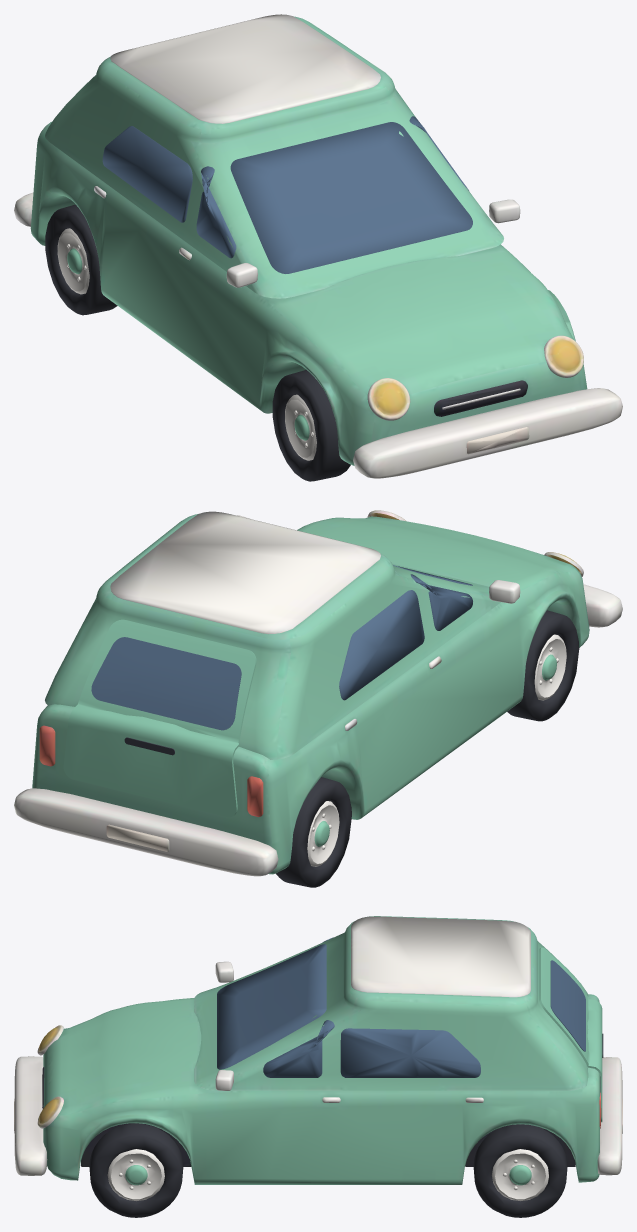
Rendered from hatch.glb.
The picture shows the model from 3 angles, top to bottom: view 1: azimuth 30°, elevation 25°; view 2: azimuth 150°, elevation 25°; view 3: azimuth 270°, elevation 25°; orthographic projection. The views are drawn at different scales.
Parts seen in each view (by area): view 1: body, windows, wheel_FR, wheel_RR; view 2: body, tailgate, windows, wheel_RR, wheel_FR; view 3: body, windows, wheel_FL, wheel_RL, tailgate.
Part boxes in pixels (<box>): body: <box>14,14,622,478</box>; windows: <box>102,116,472,273</box>; wheel_FR: <box>272,370,350,481</box>; wheel_RR: <box>45,204,117,315</box>; body: <box>14,510,622,876</box>; tailgate: <box>63,619,256,817</box>; windows: <box>339,565,472,700</box>; wheel_RR: <box>276,777,351,887</box>; wheel_FR: <box>507,610,579,721</box>; body: <box>14,916,622,1184</box>; windows: <box>217,937,480,1077</box>; wheel_FL: <box>89,1123,183,1217</box>; wheel_RL: <box>473,1124,567,1217</box>; tailgate: <box>539,947,603,1122</box>.
Size of the model in its own units: 1.87 by 1.56 by 4.05.
6 materials, 1 textured.
